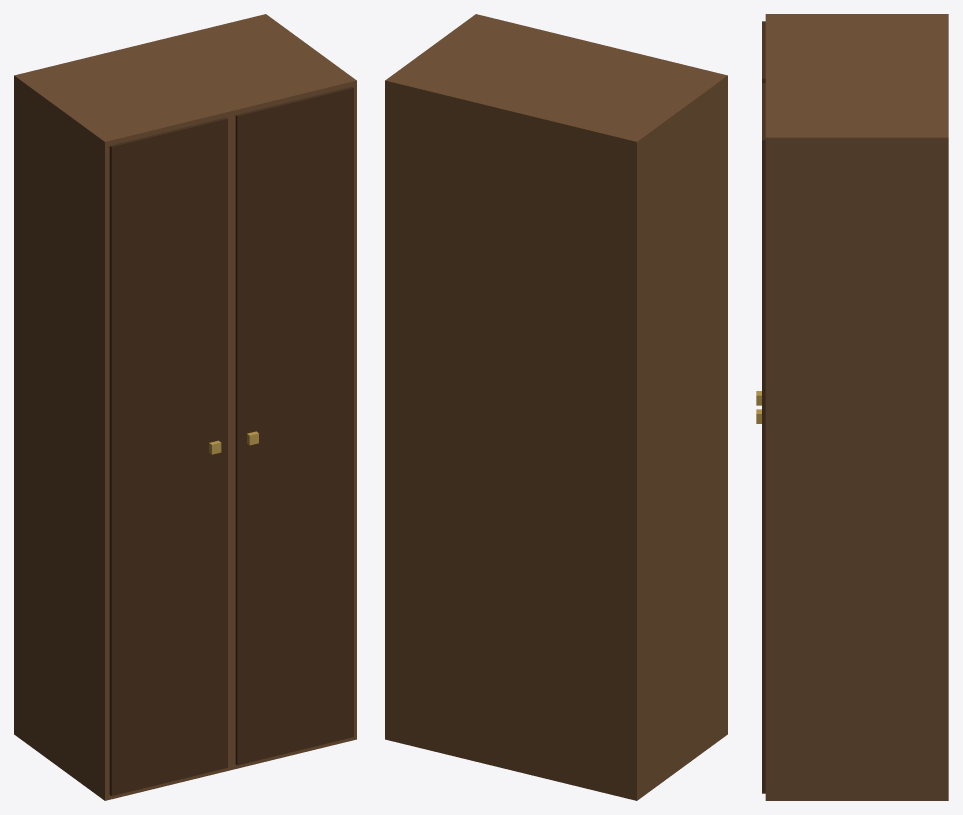
The model's file is pantry.glb.
3 views of the same model, side by side, from view 1: azimuth 30°, elevation 25°; view 2: azimuth 150°, elevation 25°; view 3: azimuth 270°, elevation 25° (orthographic).
Visible parts, largest first — view 1: pantry; view 2: pantry; view 3: pantry.
Part boxes in pixels (x1,y1,x2,y2): pantry: (14, 14, 356, 800); pantry: (385, 14, 727, 800); pantry: (756, 14, 948, 800).
Size of the model in its own units: 0.8 by 2 by 0.525.
